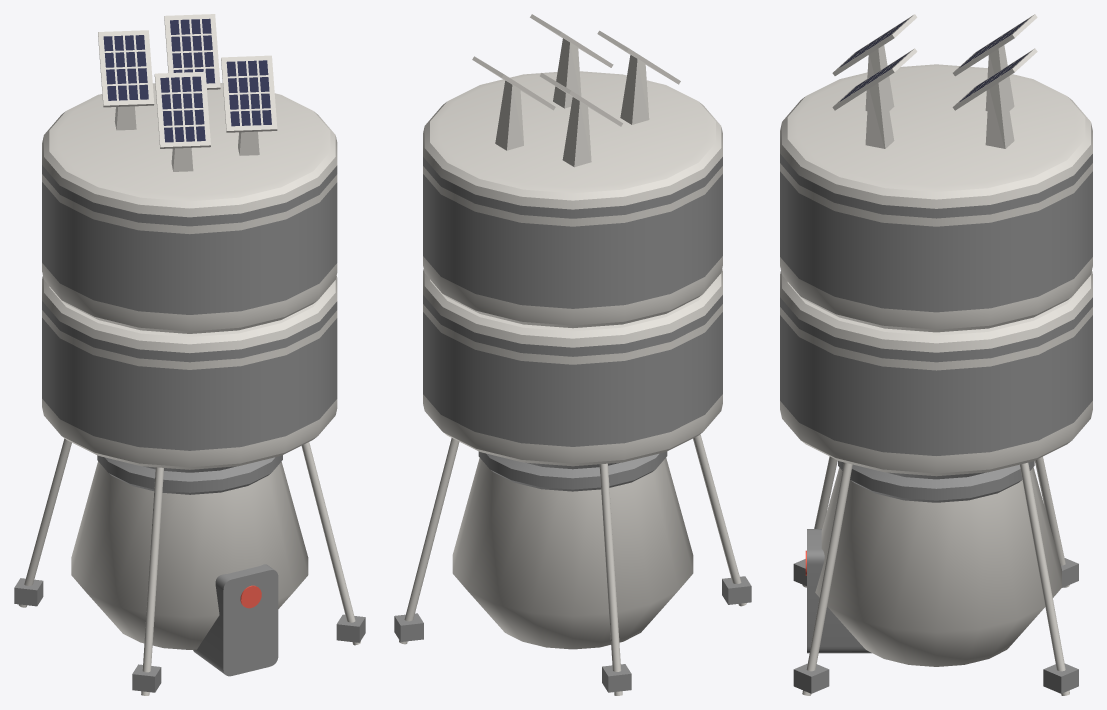
Rendered from 03 Space lab_1.FBX.
3 renders of one model, left to right at view 1: azimuth 30°, elevation 25°; view 2: azimuth 150°, elevation 25°; view 3: azimuth 270°, elevation 25°, orthographic. The views are drawn at different scales.
Visible parts, largest first — view 1: Cylinder048; view 2: Cylinder048; view 3: Cylinder048.
Part boxes in pixels (left/top/right/bottom): Cylinder048: left=14, top=14, right=365, bottom=695; Cylinder048: left=394, top=14, right=751, bottom=695; Cylinder048: left=780, top=14, right=1092, bottom=695.
Bounding box in the file's own units: 2800 × 5887 × 2757.
